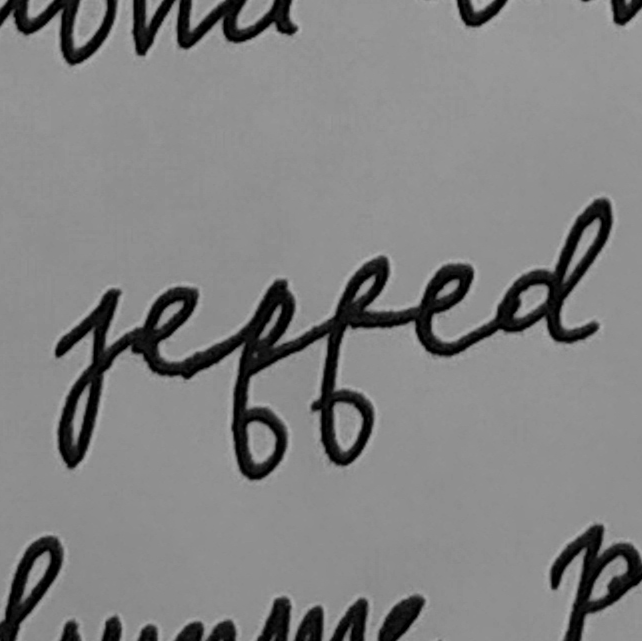d: (487, 193, 616, 349)
e: (130, 279, 209, 386), (405, 257, 480, 362)
f: (306, 250, 395, 468), (223, 274, 301, 485)
j: (47, 282, 125, 476)
